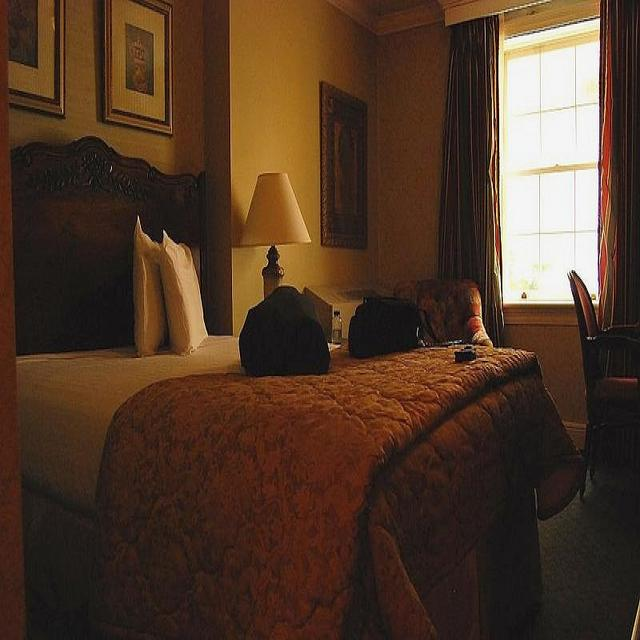chair: (565, 244, 640, 505), (406, 260, 505, 376)
